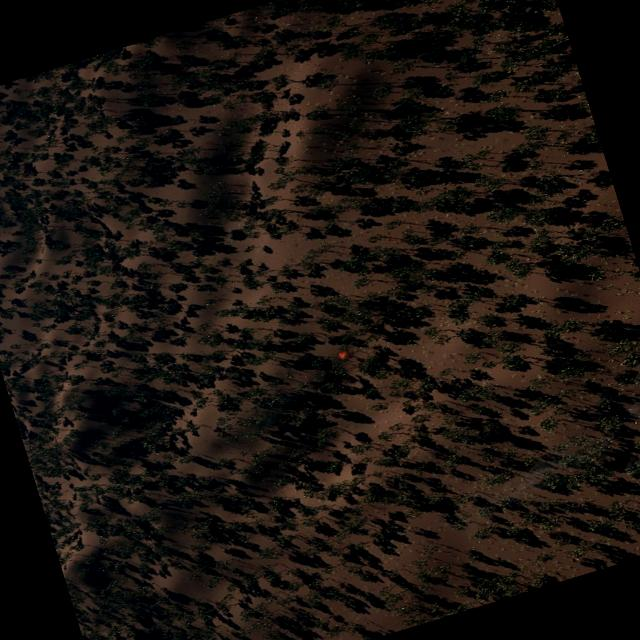fire: (336, 348, 348, 358)
